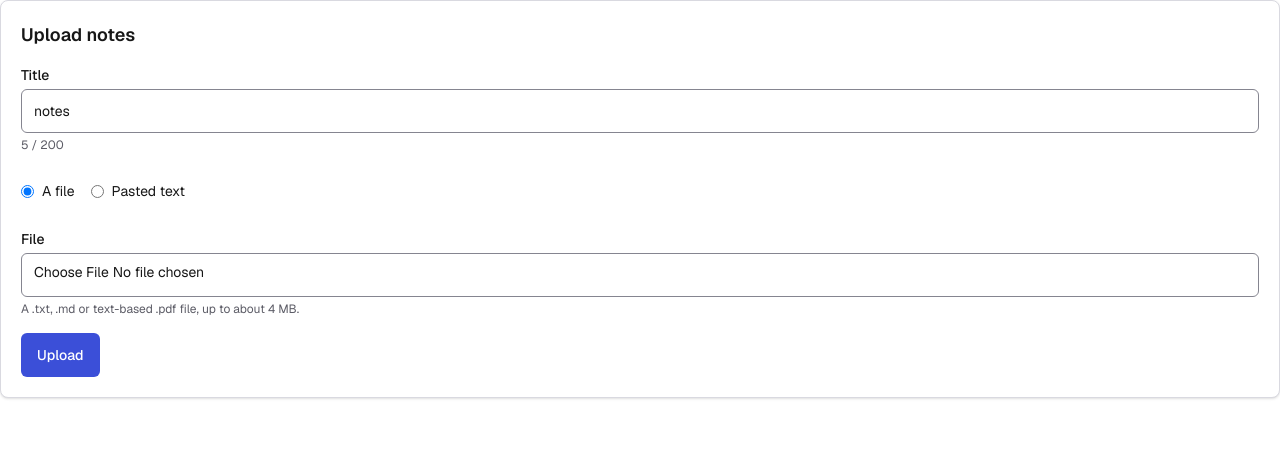
Scenario: UploadForm › shows a generic message, not the cause, for anything else
The width and height of the screenshot is (1280, 452).
Earlier steps of the test are not shown.
Click the button "Upload" at x=60, y=355, box [21,333,100,377]
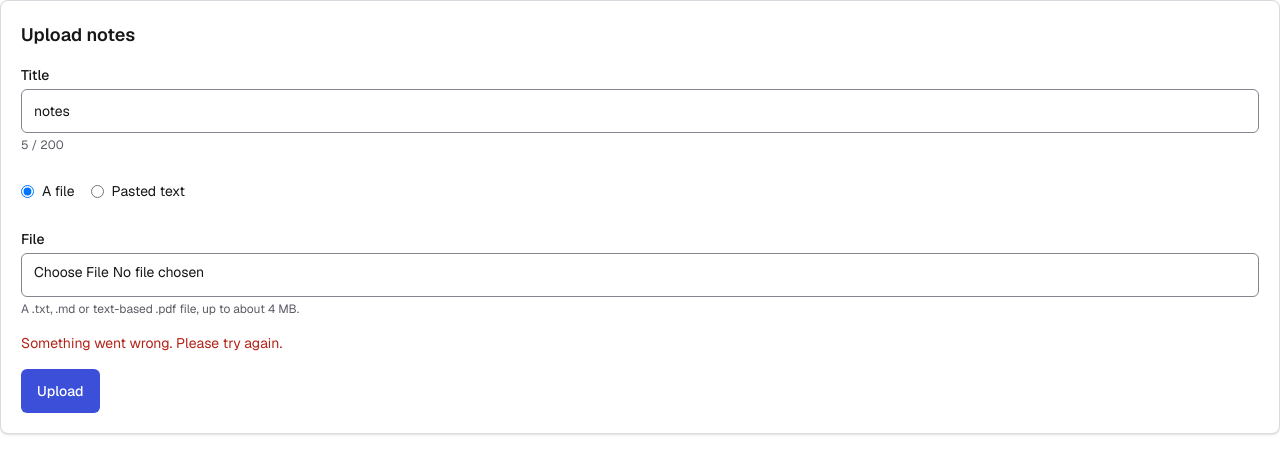
Result: the message reads "Something went wrong. Please try again." at [21,334,282,352]
